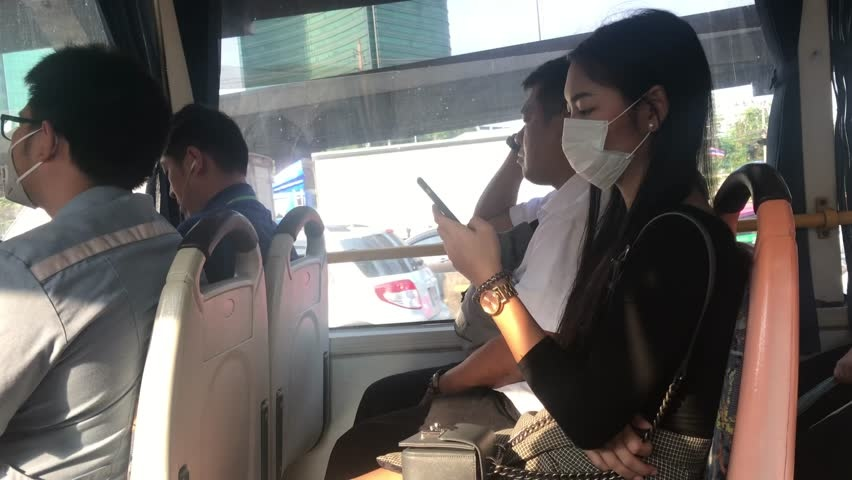with_mask: (559, 49, 676, 184)
